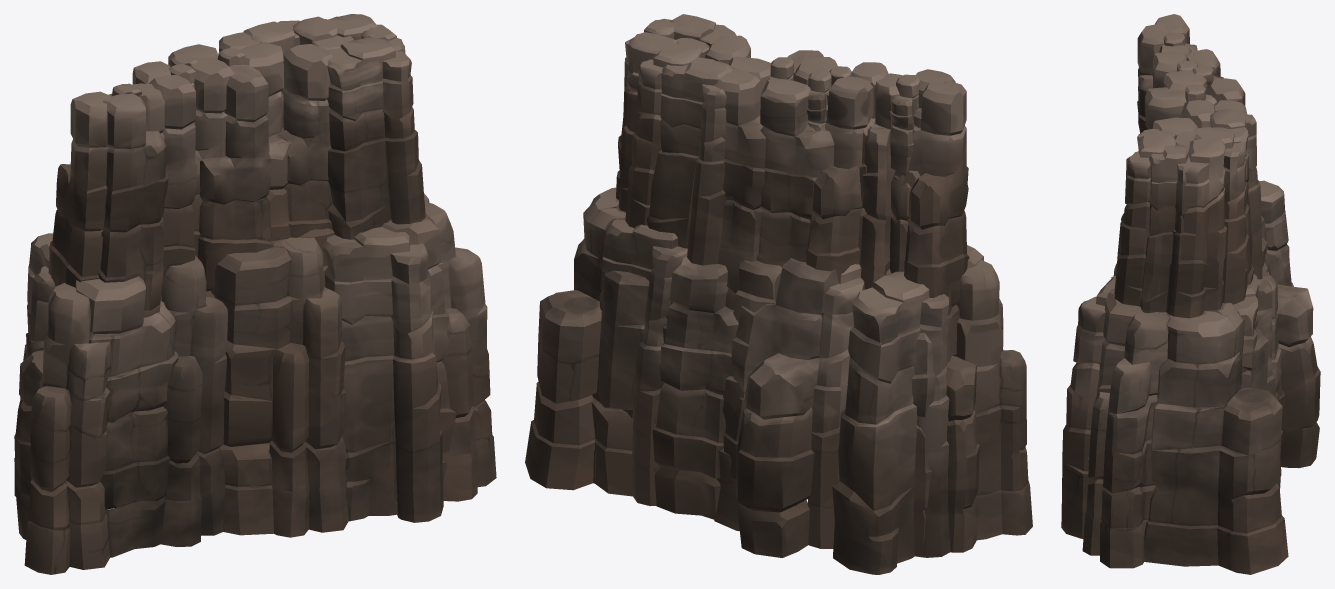
File: Lava-LargeRock-003.fbx
The picture shows the model from 3 angles, left to right: view 1: azimuth 30°, elevation 25°; view 2: azimuth 150°, elevation 25°; view 3: azimuth 270°, elevation 25°; orthographic projection. The views are drawn at different scales.
Parts seen in each view (by area): view 1: Lava-LargeRock-003; view 2: Lava-LargeRock-003; view 3: Lava-LargeRock-003.
Part boxes in pixels (<box>): Lava-LargeRock-003: <box>14,14,496,574</box>; Lava-LargeRock-003: <box>525,14,1032,574</box>; Lava-LargeRock-003: <box>1061,14,1320,574</box>.
Bounding box in the file's own units: 3947 × 3658 × 2202.
